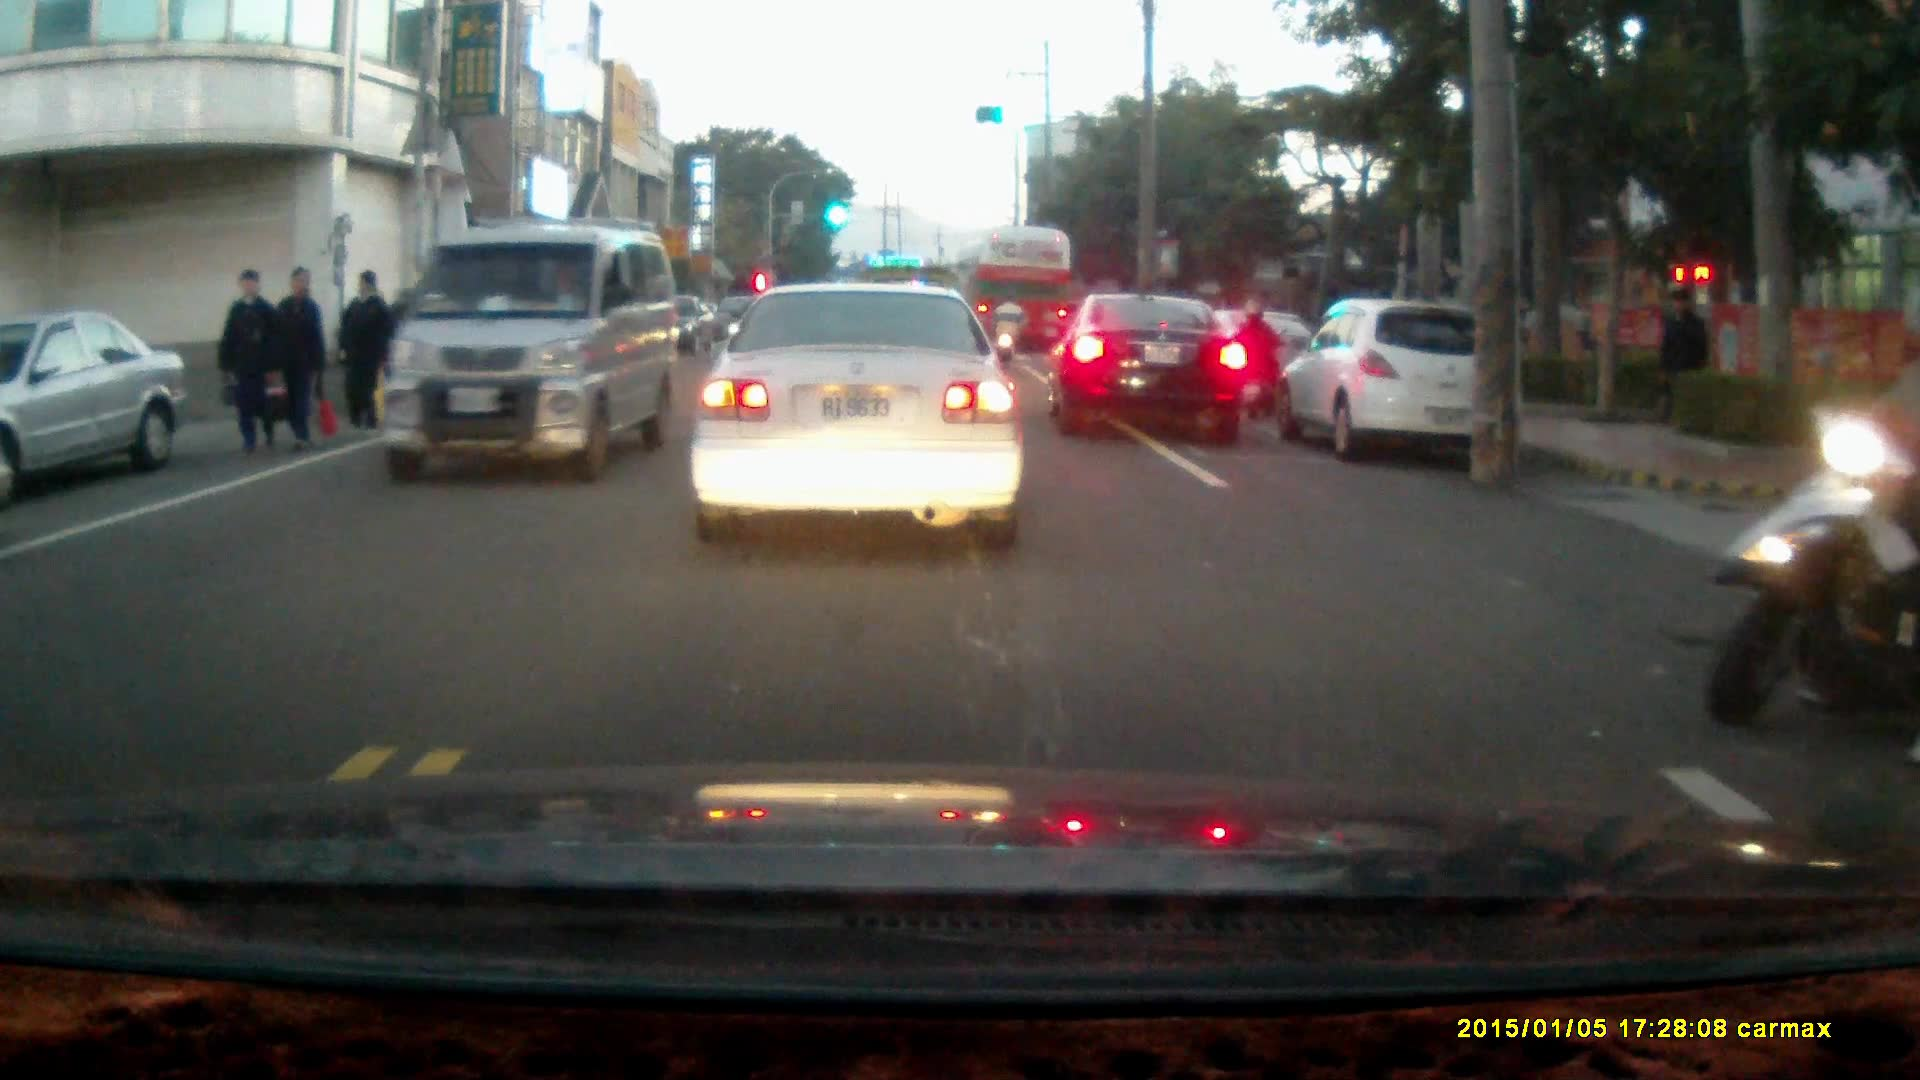pedestrian: (256, 261, 322, 458), (213, 266, 280, 461), (332, 267, 393, 435), (1658, 286, 1713, 432)
rider: (1710, 338, 1919, 745), (1234, 297, 1288, 421), (991, 293, 1030, 372)
vehicle: (689, 282, 1029, 550), (382, 216, 679, 486), (1272, 296, 1524, 470), (1, 309, 175, 501), (1049, 295, 1254, 447), (971, 223, 1075, 365)
